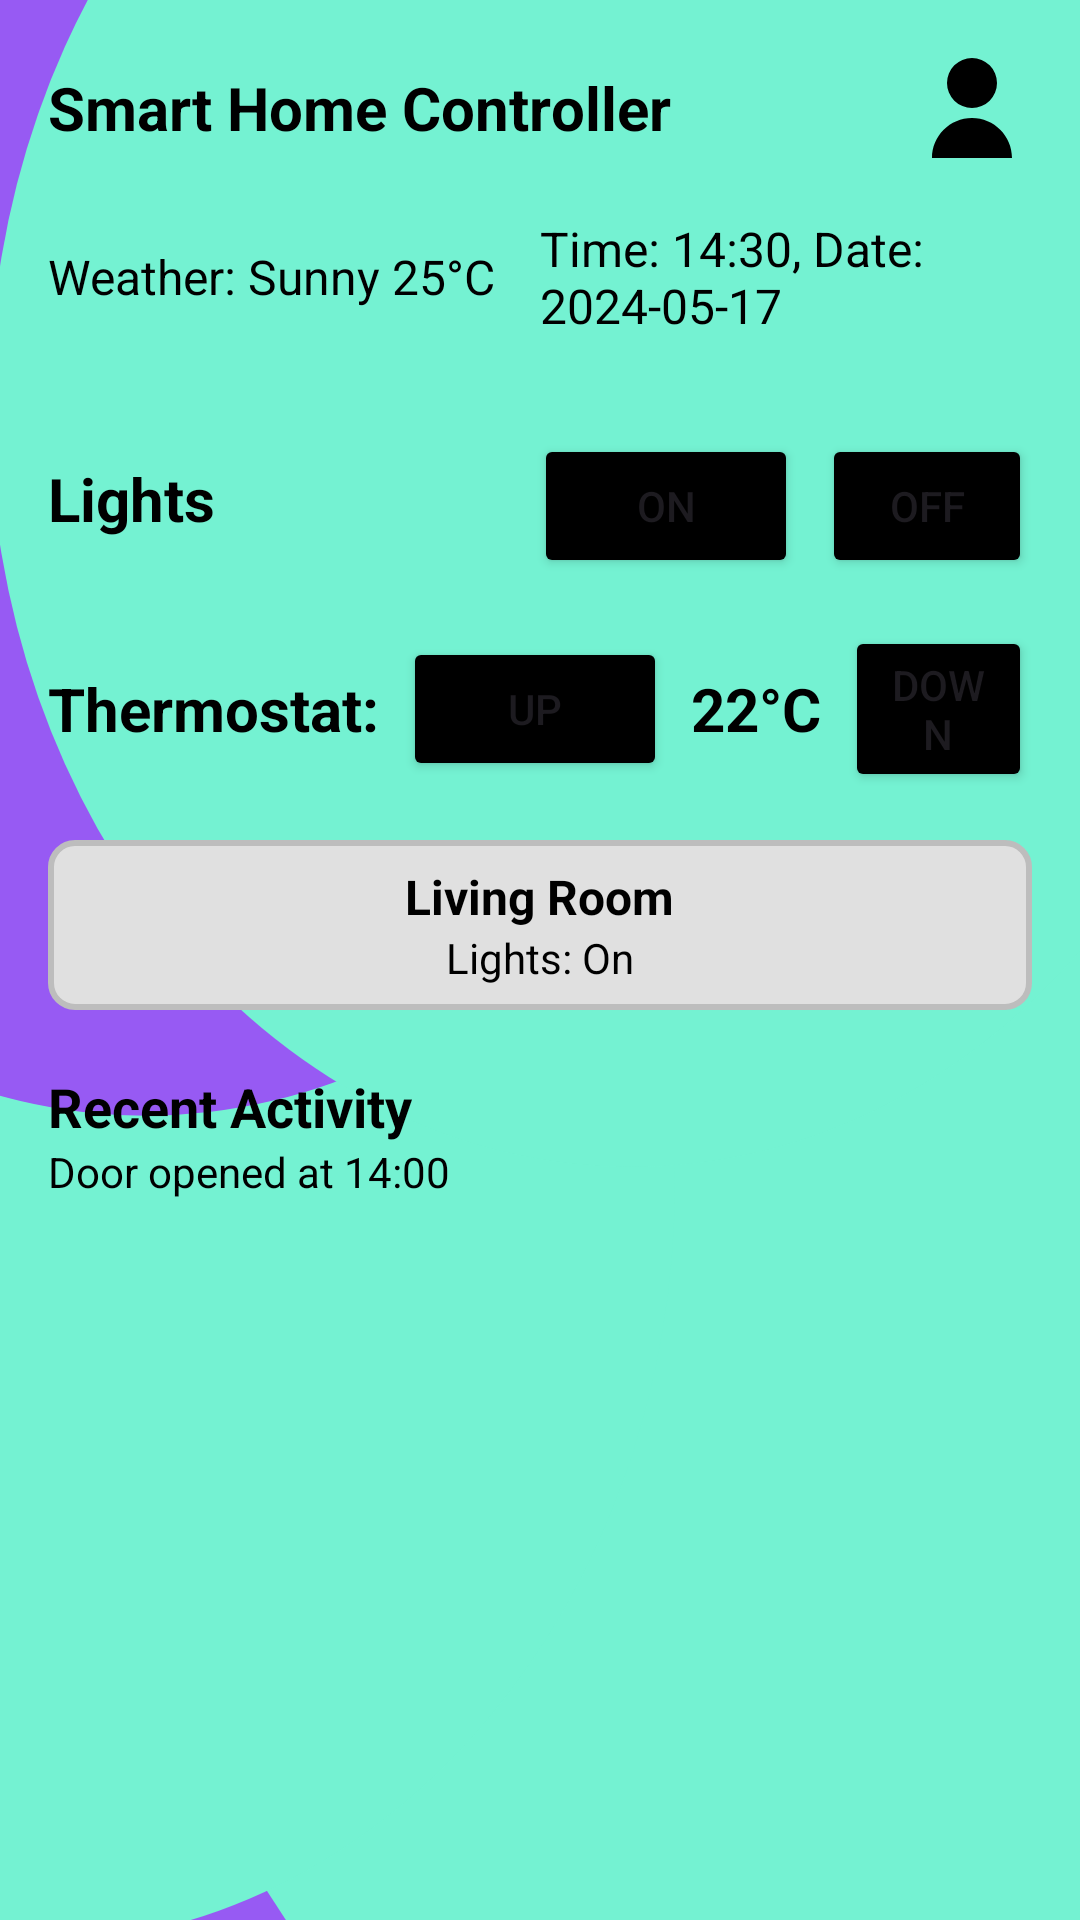

Icon bounding boxes for this 1080×1920 phone screenshot, format (x1, y1, x2, y2):
User Profile: (932, 58, 1012, 158)
